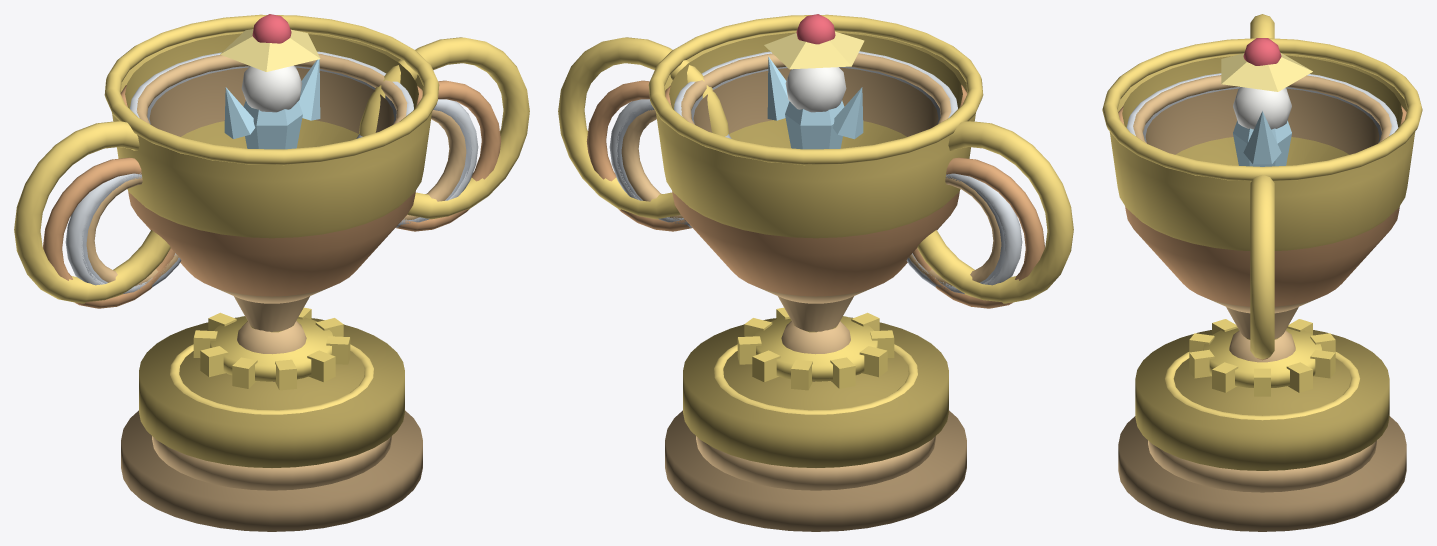
File: PP_Trophies.fbx
3 views of the same model, side by side, from view 1: azimuth 30°, elevation 25°; view 2: azimuth 150°, elevation 25°; view 3: azimuth 270°, elevation 25° (orthographic). The views are drawn at different scales.
Parts seen in each view (by area): view 1: trophy_4, trophy_0, trophy_1, trophy_2, trophy_3; view 2: trophy_4, trophy_0, trophy_1, trophy_2, trophy_3; view 3: trophy_4, trophy_0, trophy_1, trophy_3, trophy_2.
Part boxes in pixels (<box>): trophy_4: <box>14,14,529,467</box>; trophy_0: <box>86,53,466,531</box>; trophy_1: <box>43,80,501,308</box>; trophy_2: <box>65,51,478,293</box>; trophy_3: <box>81,105,472,390</box>; trophy_4: <box>558,14,1073,467</box>; trophy_0: <box>621,53,1001,531</box>; trophy_1: <box>586,80,1044,308</box>; trophy_2: <box>609,51,1022,293</box>; trophy_3: <box>617,104,1005,390</box>; trophy_4: <box>1102,14,1422,470</box>; trophy_0: <box>1118,75,1406,531</box>; trophy_1: <box>1118,105,1406,360</box>; trophy_3: <box>1189,319,1335,396</box>; trophy_2: <box>1126,73,1398,166</box>.
Size of the model in its own units: 1.33 by 1.12 by 0.756.
